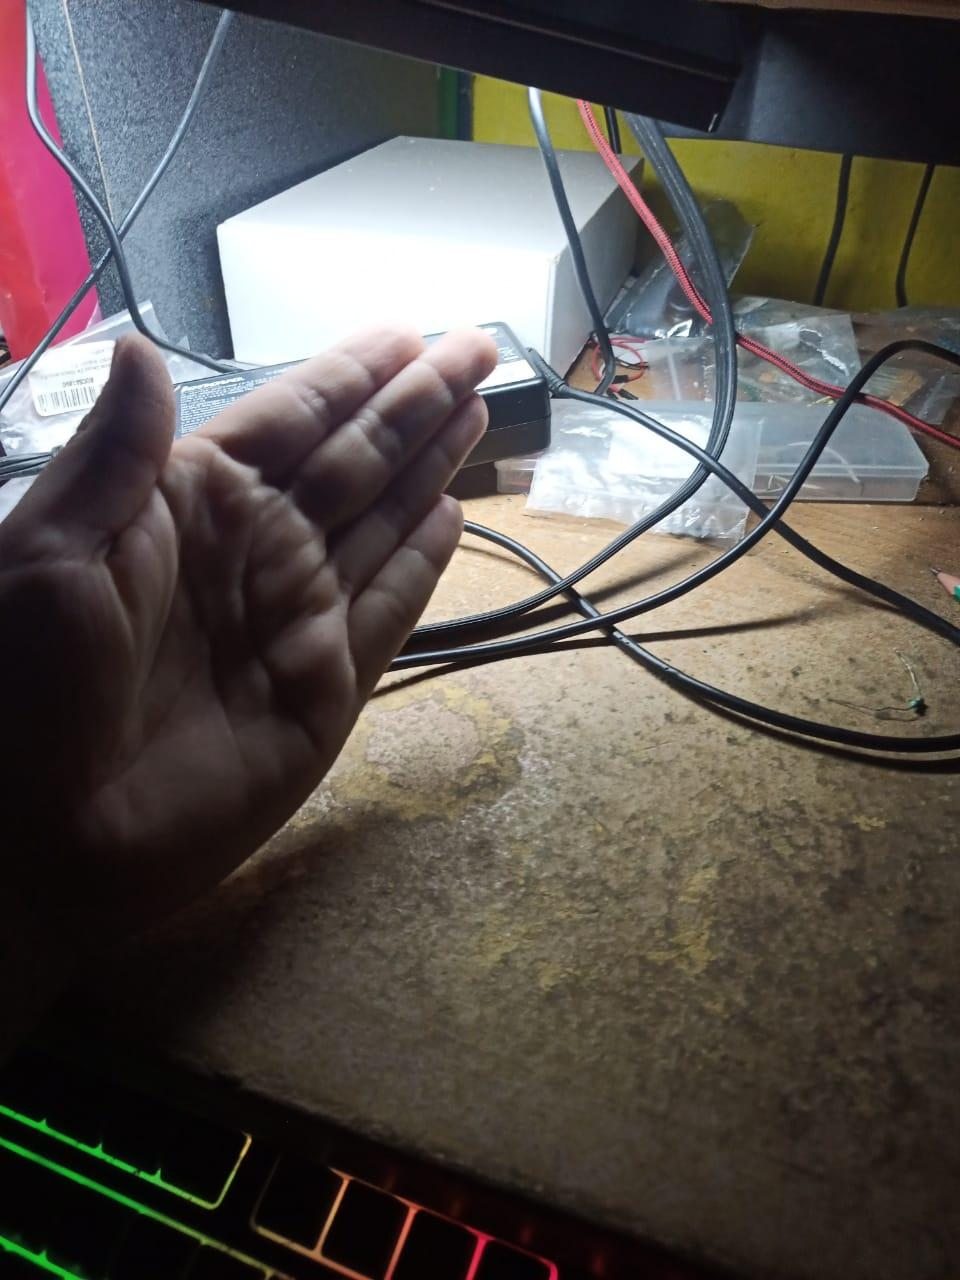Paper: (0, 329, 500, 1065)
